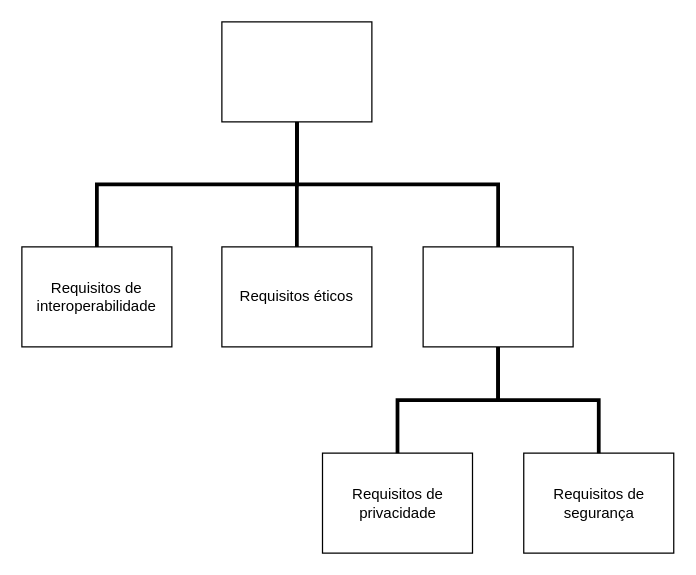
Some shapes in this 696 by 575 pixel diagram are drawn without their labels. The shapes that lost their labels are listed below. From the top down, each one's centre as x and y in pixels, then its label:
At (296,71): "Requisitos externos".
At (497,296): "Requisitos legais".
